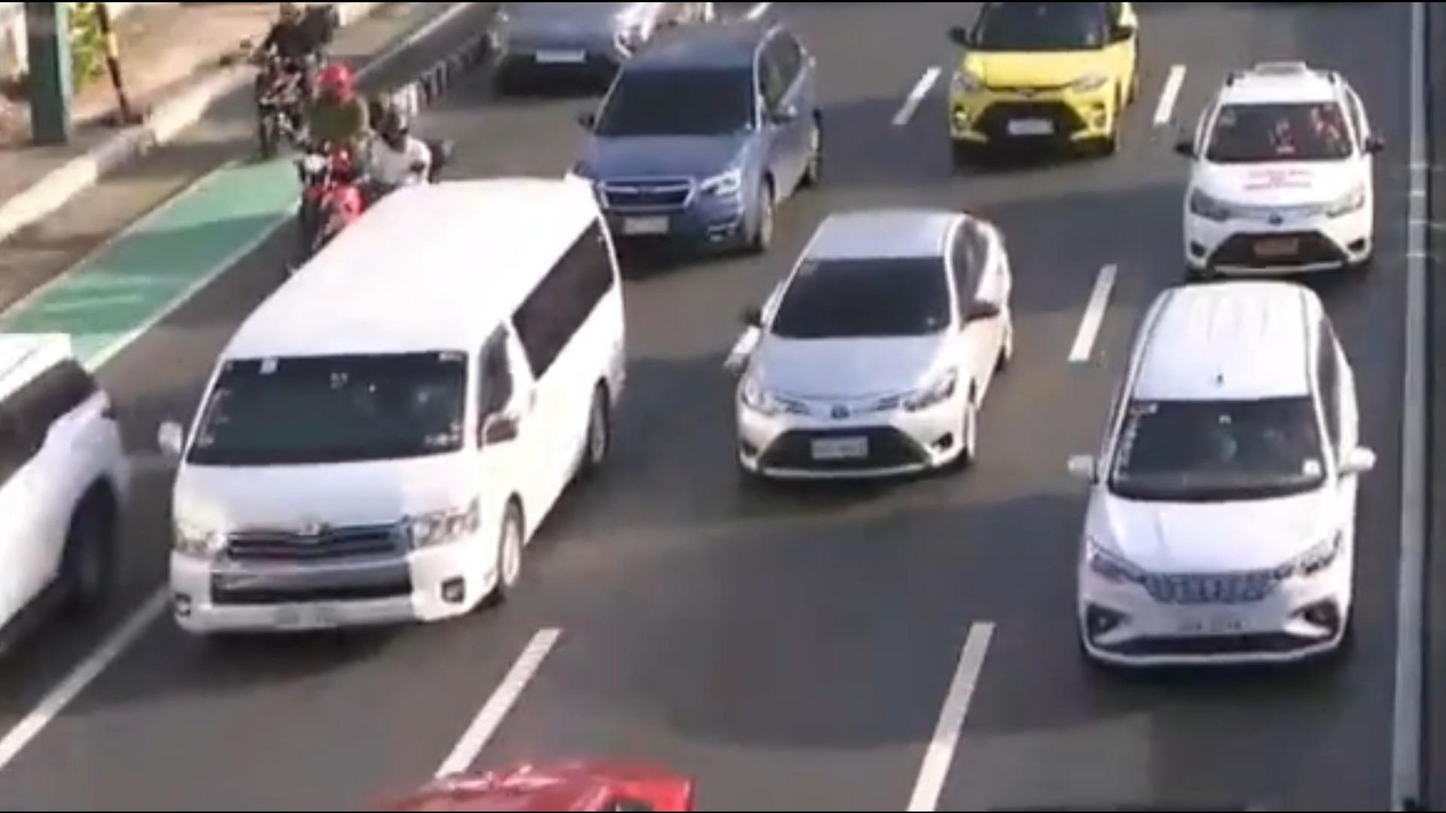SUV: (1081, 283, 1368, 687), (568, 26, 820, 251), (0, 330, 133, 670)
Sedan: (733, 211, 1014, 488), (1178, 58, 1377, 277), (946, 0, 1144, 155)
Van: (153, 177, 626, 644)
